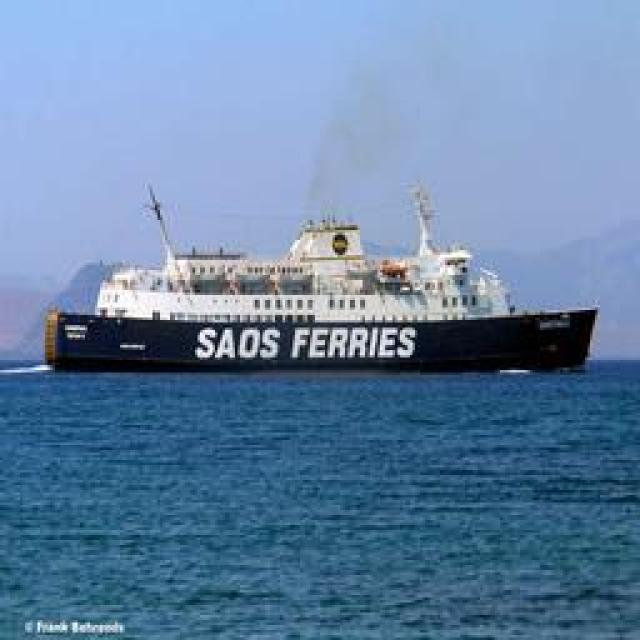CIV_Ship: (40, 178, 595, 376)
